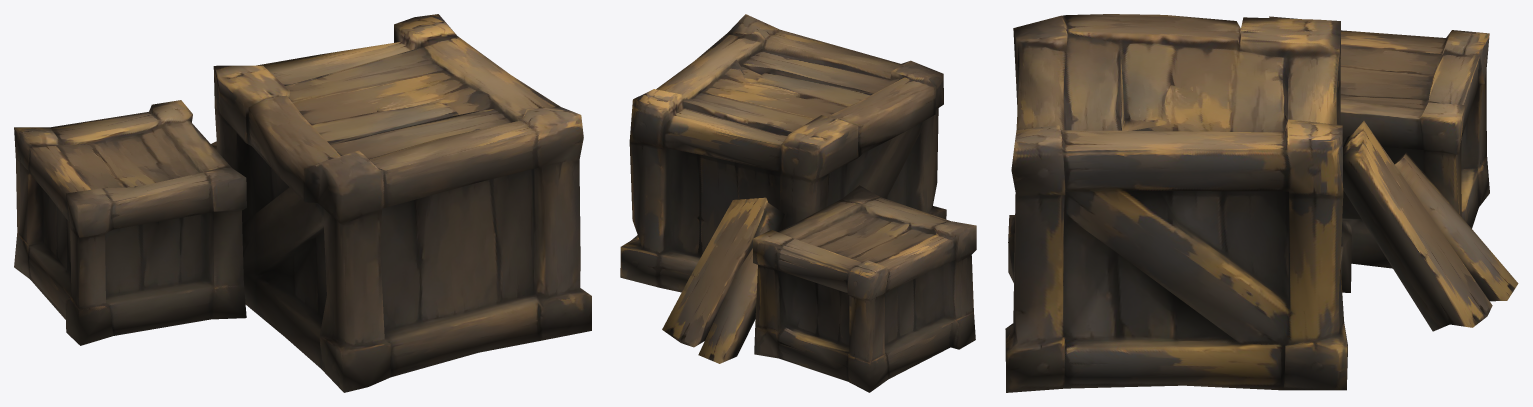
Rendered from tripo_convert_598a34f5-460e-490c-a8b8-5d9f64b013c2.fbx.
3 views of the same model, side by side, from view 1: azimuth 30°, elevation 25°; view 2: azimuth 150°, elevation 25°; view 3: azimuth 270°, elevation 25° (orthographic). The views are drawn at different scales.
Visible parts, largest first — view 1: tripo_node_598a34f5; view 2: tripo_node_598a34f5; view 3: tripo_node_598a34f5.
Part boxes in pixels (x1,y1,x2,y2): tripo_node_598a34f5: [14, 14, 591, 392]; tripo_node_598a34f5: [620, 14, 976, 392]; tripo_node_598a34f5: [1005, 14, 1518, 392].
Bounding box in the file's own units: 0.9763 × 0.5185 × 0.9552.
1 material, 1 textured.
